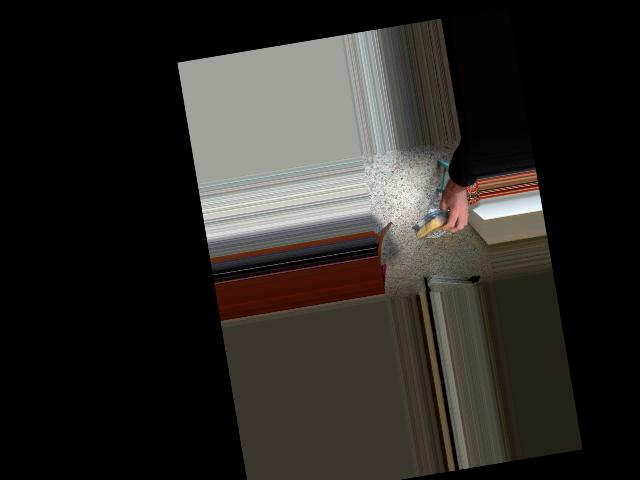cheese: (410, 211, 460, 241)
